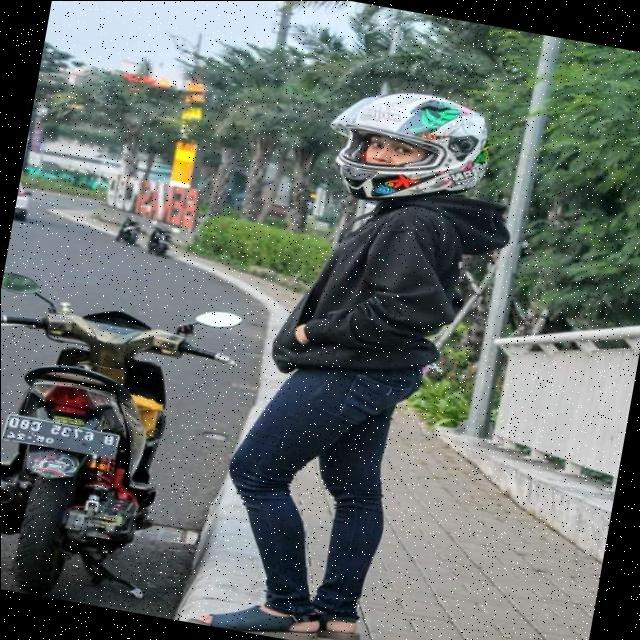Helm: (309, 74, 500, 226)
